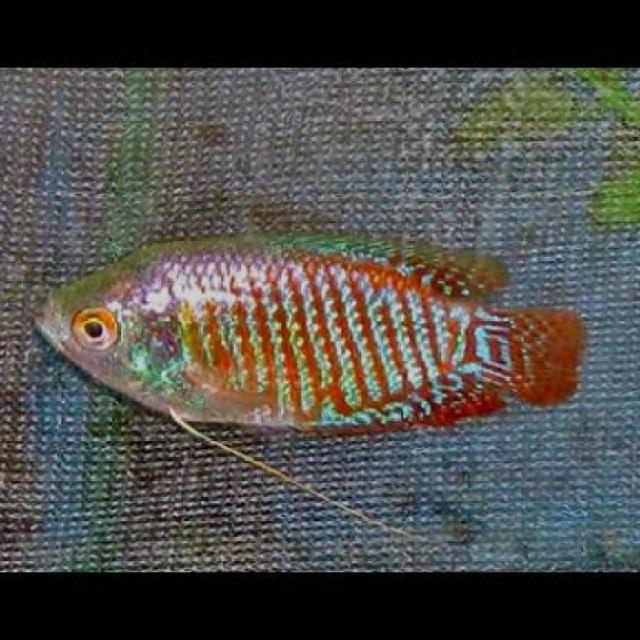Gourami: (25, 226, 590, 442)
